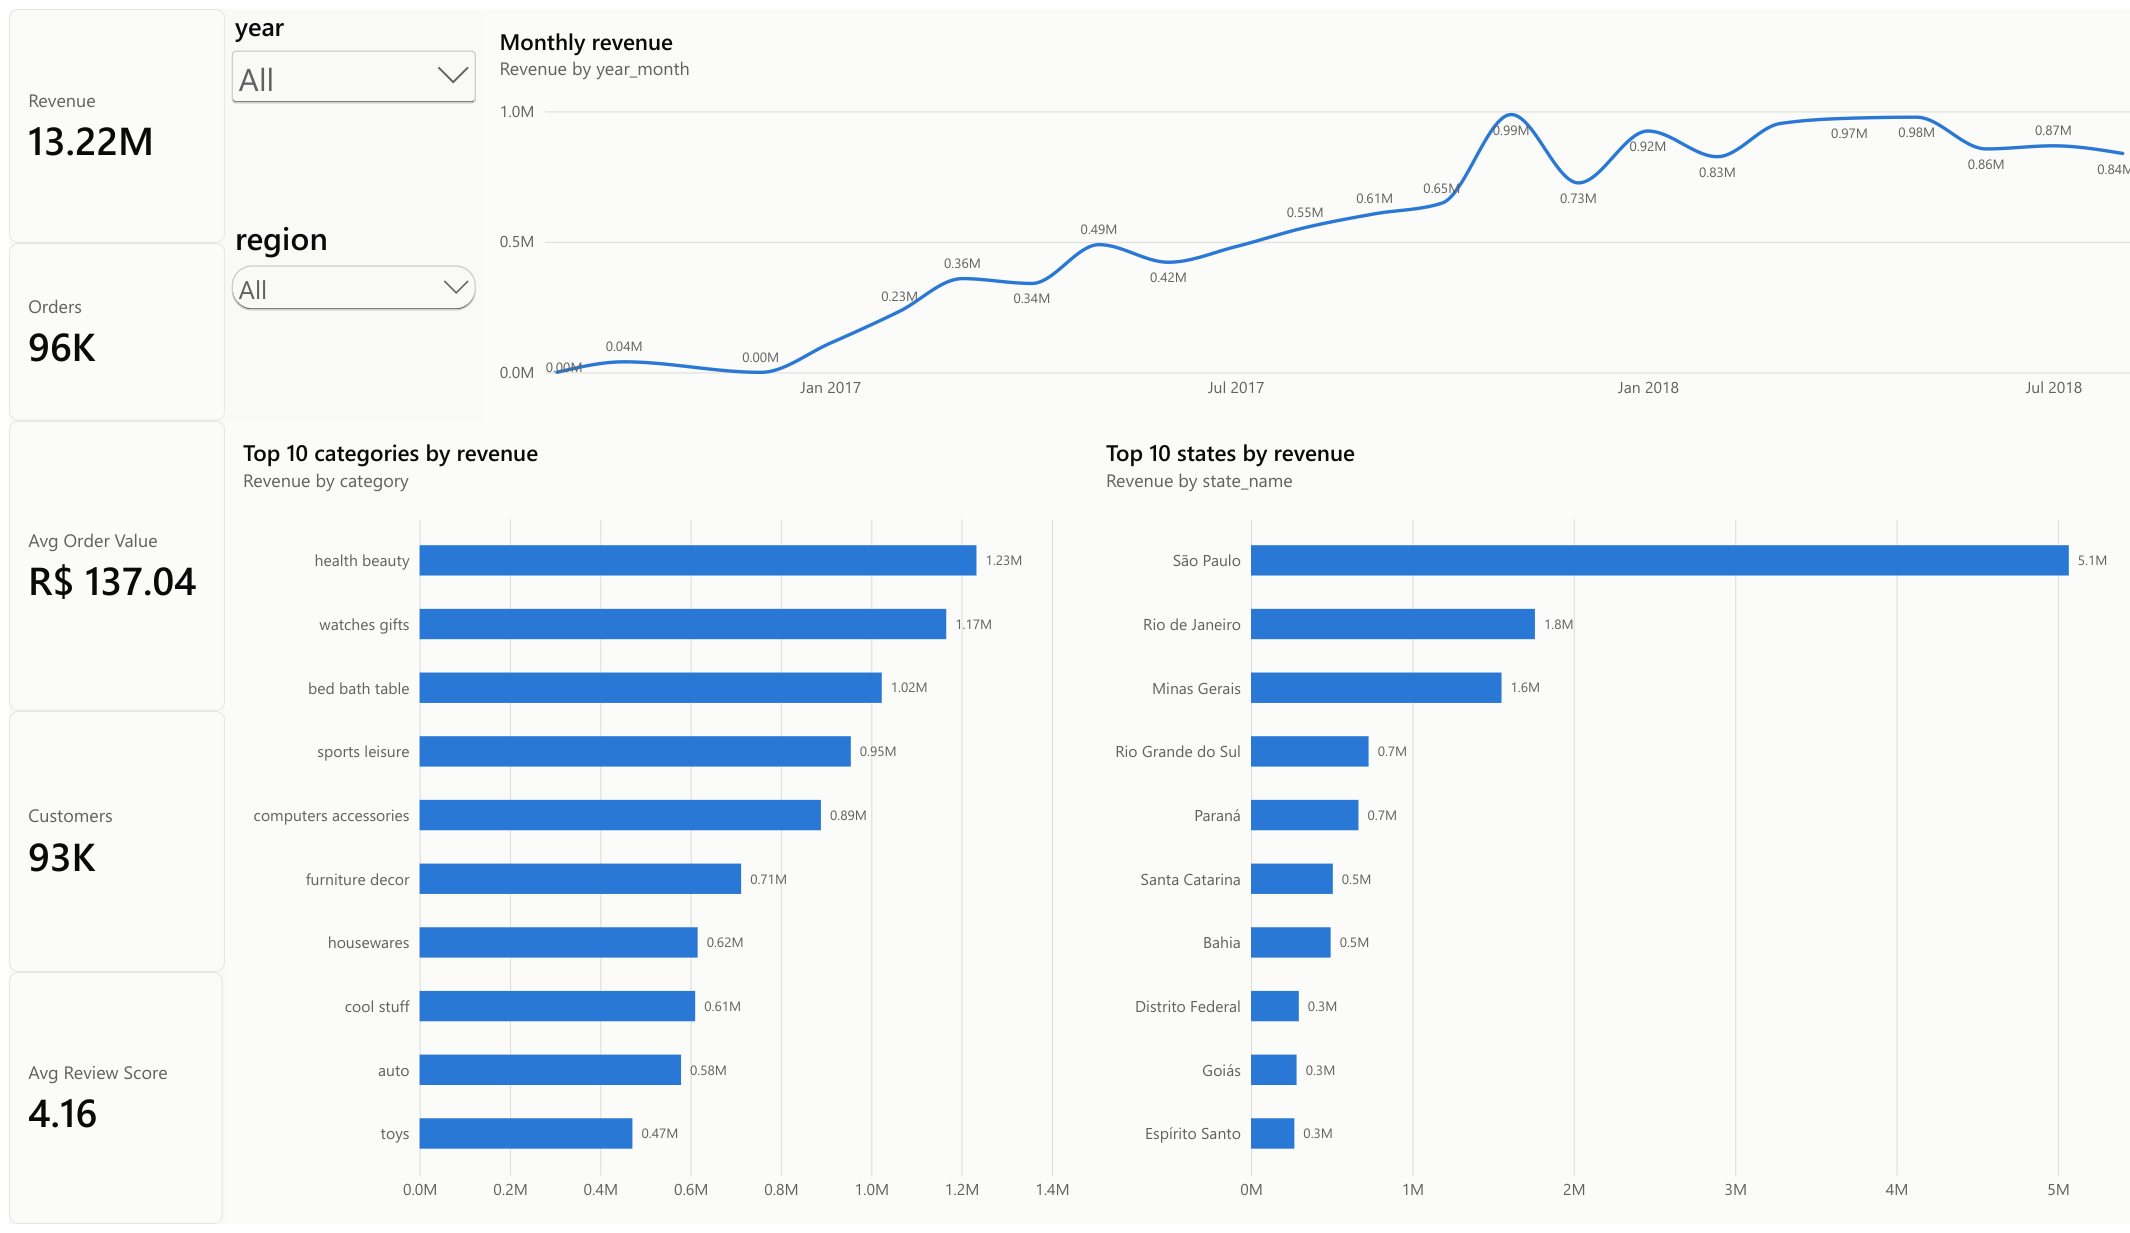

Layout of this report page (visuals, bound fields, positions):
{"tool":"powerbi","page":{"name":"Executive Overview","canvas":[1920,1080],"ordinal":0},"visuals":[{"type":"cardVisual","fields":{"Data":["fact_order_items.Revenue"]},"box":[0,0,191.9,207.6],"z":0},{"type":"cardVisual","fields":{"Data":["fact_orders.Avg Order Value"]},"box":[0,366.3,191.9,258.1],"z":1000},{"type":"cardVisual","fields":{"Data":["fact_orders.Customers"]},"box":[0,624.4,191.9,232],"z":2000},{"type":"cardVisual","fields":{"Data":["fact_orders.Avg Review Score"]},"box":[0,856.4,190.1,223.3],"z":3000},{"type":"cardVisual","fields":{"Data":["fact_orders.Orders"]},"box":[0,207.6,191.9,158.7],"z":4000},{"type":"lineChart","title":"Monthly revenue","fields":{"Category":["dim_date.year_month"],"Y":["fact_order_items.Revenue"]},"box":[420.4,0,1500.8,366.8],"z":5000},{"type":"clusteredBarChart","title":"Top 10 categories by revenue","fields":{"Category":["dim_product.category"],"Y":["fact_order_items.Revenue"]},"box":[191.9,366.3,767.4,713.4],"z":6000},{"type":"clusteredBarChart","title":"Top 10 states by revenue","fields":{"Category":["dim_state.state_name"],"Y":["fact_order_items.Revenue"]},"box":[959.3,366.3,961,713.4],"z":7000},{"type":"slicer","fields":{"Values":["dim_date.year"]},"box":[192.6,0,227.8,184.2],"z":8000},{"type":"slicer","fields":{"Values":["dim_state.region"]},"box":[192.6,184.2,227.8,162.5],"z":9000}]}

Visuals, with their boxes in screenshot pixels (x1, y1, x2, y2), scaled from the page's 1920x1080 canvas onto the 2130x1233 screenshot:
cardVisual - fact_order_items.Revenue: [0, 0, 213, 237]
cardVisual - fact_orders.Avg Order Value: [0, 418, 213, 713]
cardVisual - fact_orders.Customers: [0, 713, 213, 978]
cardVisual - fact_orders.Avg Review Score: [0, 978, 211, 1232]
cardVisual - fact_orders.Orders: [0, 237, 213, 418]
"Monthly revenue" lineChart: [466, 0, 2129, 419]
"Top 10 categories by revenue" clusteredBarChart: [213, 418, 1064, 1232]
"Top 10 states by revenue" clusteredBarChart: [1064, 418, 2129, 1232]
slicer - dim_date.year: [214, 0, 466, 210]
slicer - dim_state.region: [214, 210, 466, 396]
